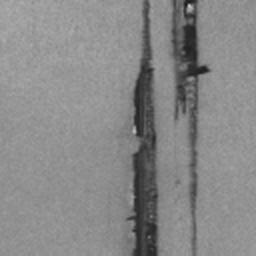Slag inclusion: (168, 0, 212, 256), (124, 0, 163, 256), (174, 177, 180, 186)
